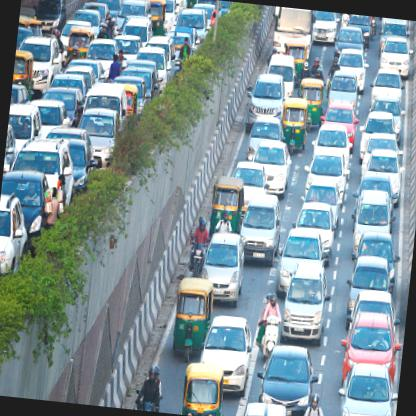bus: (270, 6, 316, 58)
car: (5, 135, 78, 216), (337, 311, 405, 388), (196, 311, 254, 401), (254, 343, 322, 415), (279, 260, 334, 342), (0, 166, 50, 253), (274, 226, 331, 300), (197, 230, 246, 309), (342, 256, 395, 327), (332, 360, 400, 415), (347, 186, 397, 258), (236, 192, 282, 266), (351, 229, 403, 291), (14, 32, 62, 98), (288, 200, 338, 262), (302, 146, 352, 208), (74, 106, 121, 169), (0, 193, 33, 282), (358, 147, 406, 208), (244, 69, 288, 135), (246, 138, 292, 196), (230, 160, 270, 225), (79, 79, 128, 131), (356, 110, 401, 164), (345, 290, 401, 329), (245, 115, 286, 165), (6, 102, 42, 156), (336, 46, 372, 92), (378, 35, 414, 78), (264, 51, 298, 95), (83, 36, 120, 74), (173, 6, 208, 46), (368, 66, 405, 102), (332, 26, 364, 66), (329, 67, 359, 102), (309, 10, 339, 45)
motorcycle: (253, 290, 284, 362), (130, 364, 166, 411), (186, 216, 212, 278), (301, 390, 332, 415), (298, 61, 310, 96)
